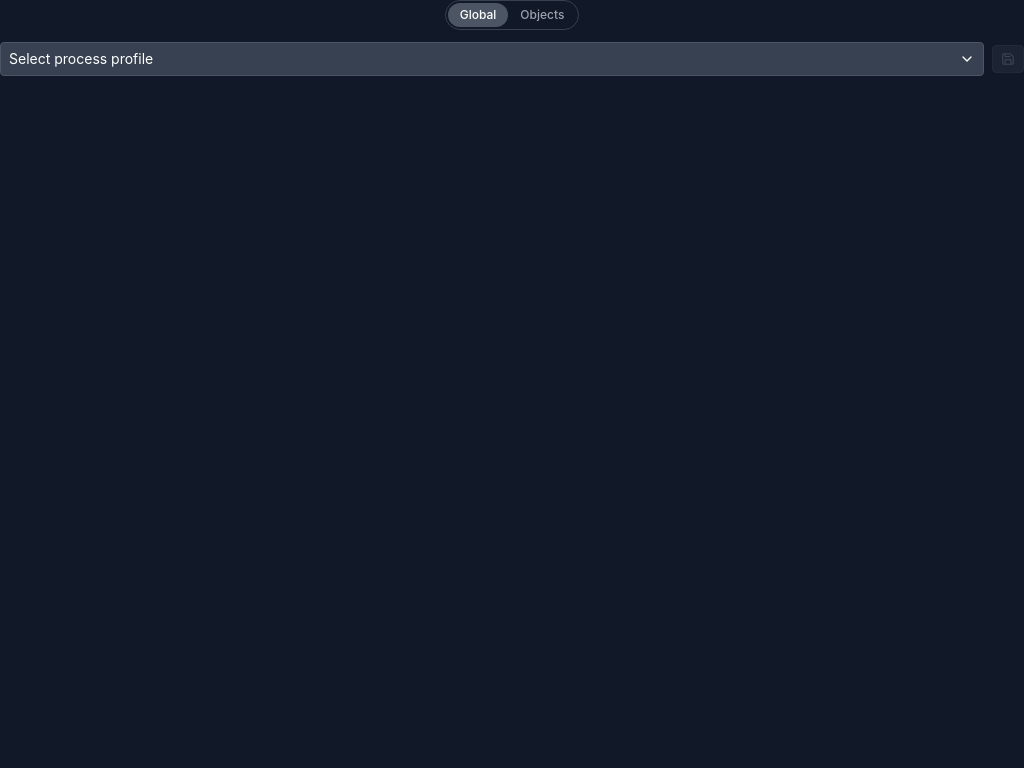
ProcessSelector › filtering saved process configs by printer compatibility › only shows saved configs whose `inherits` matches a compatible system profile
Click the button labelled "Select process profile" at {"x": 81, "y": 58}, box [0, 42, 984, 76]
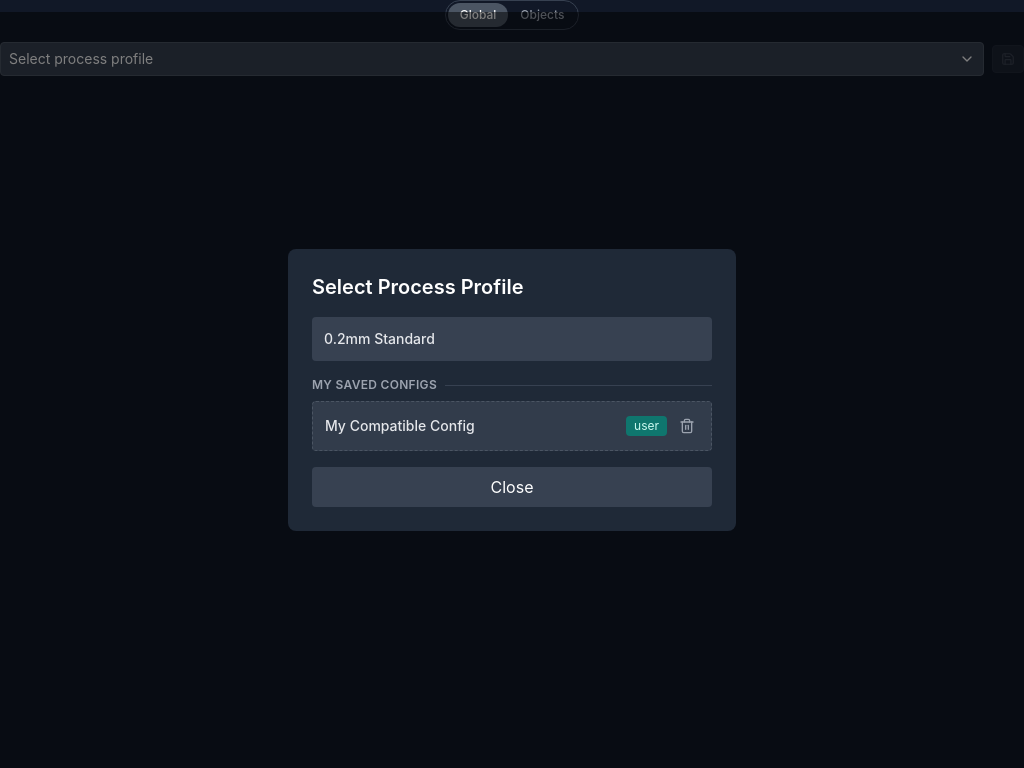
Check: the text "My Compatible Config" is shown, box [325, 416, 475, 436]
